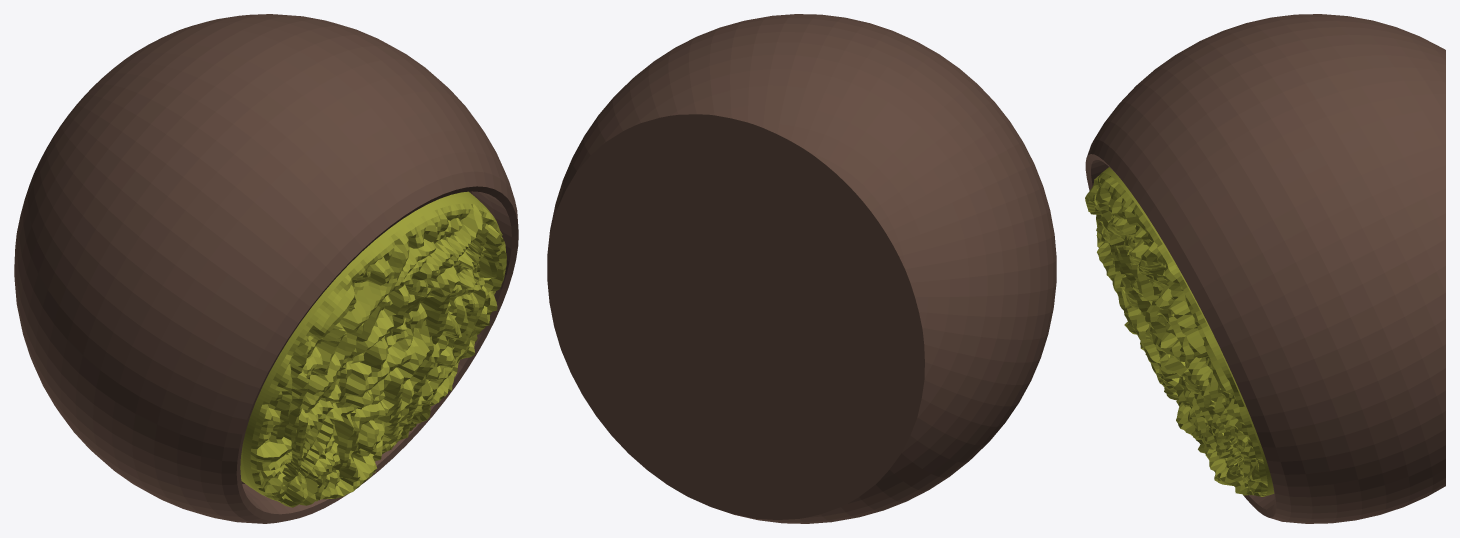
The model's file is dubai.glb.
The picture shows the model from 3 angles, left to right: view 1: azimuth 30°, elevation 25°; view 2: azimuth 150°, elevation 25°; view 3: azimuth 270°, elevation 25°; orthographic projection.
Parts seen in each view (by area): view 1: Sphere.064, Circle.086; view 2: Sphere.064; view 3: Sphere.064, Circle.086.
Part boxes in pixels (bbox=[...]): Sphere.064: bbox=[14, 14, 518, 523]; Circle.086: bbox=[240, 191, 506, 507]; Sphere.064: bbox=[547, 14, 1056, 523]; Sphere.064: bbox=[1085, 14, 1445, 523]; Circle.086: bbox=[1085, 167, 1274, 496].
Bounding box in the file's own units: 16.09 × 16.09 × 11.39.
